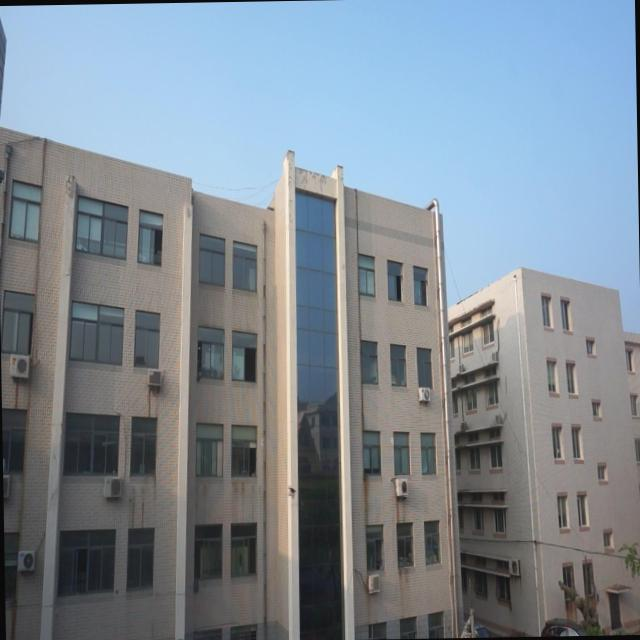drone: (286, 484, 298, 498)
